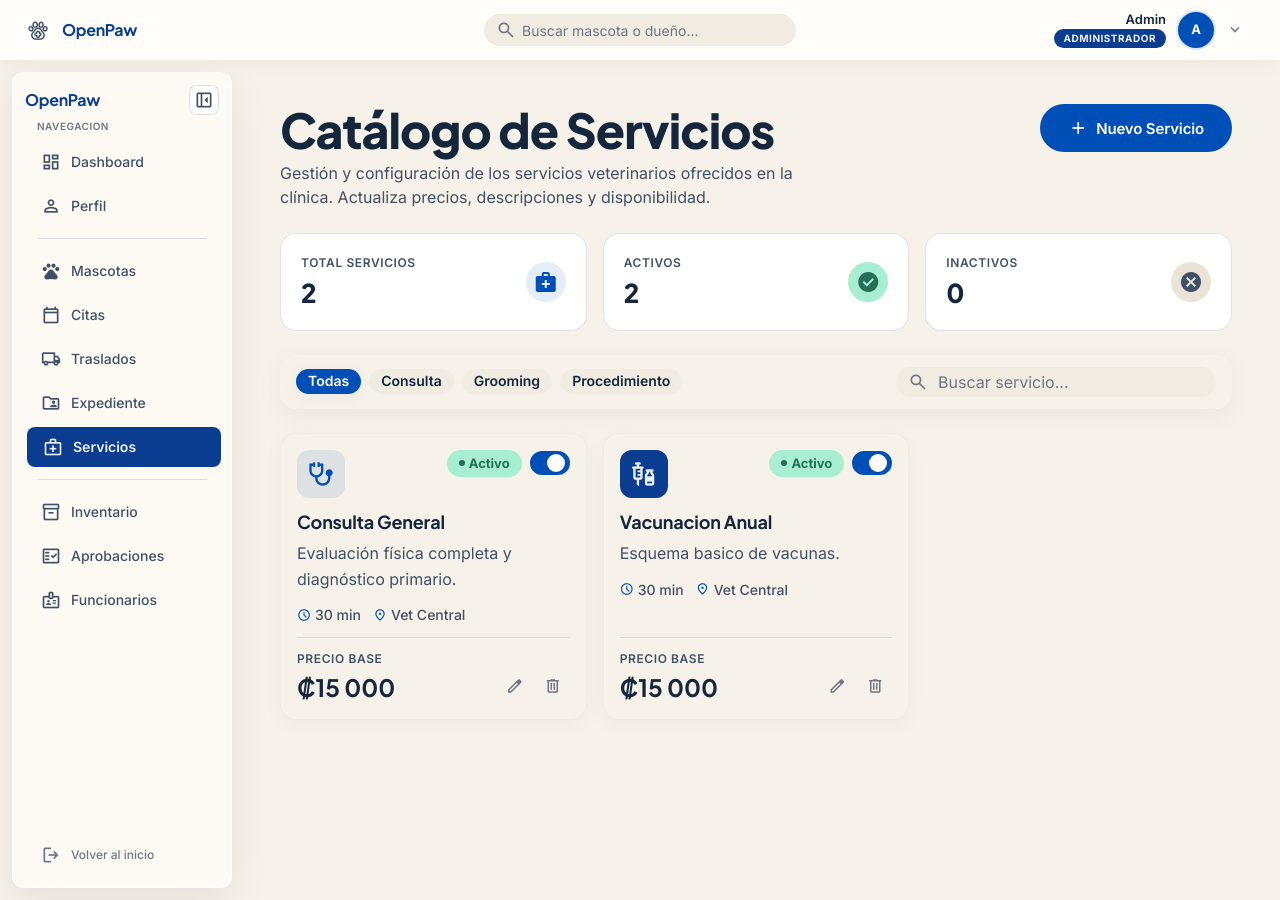
Scenario: ServiciosVeterinariaPage - rediseno catalogo con grid, toggle y busqueda (T31) › el buscador filtra por texto (nombre/descripcion) y se puede limpiar
Expected: the heading "Consulta General" is shown, [297,510,445,533]
Type "vacunacion" into the search field labelled "Buscar servicio".
click(1070, 382); type("vacunacion")  # box [936,371,1204,393]
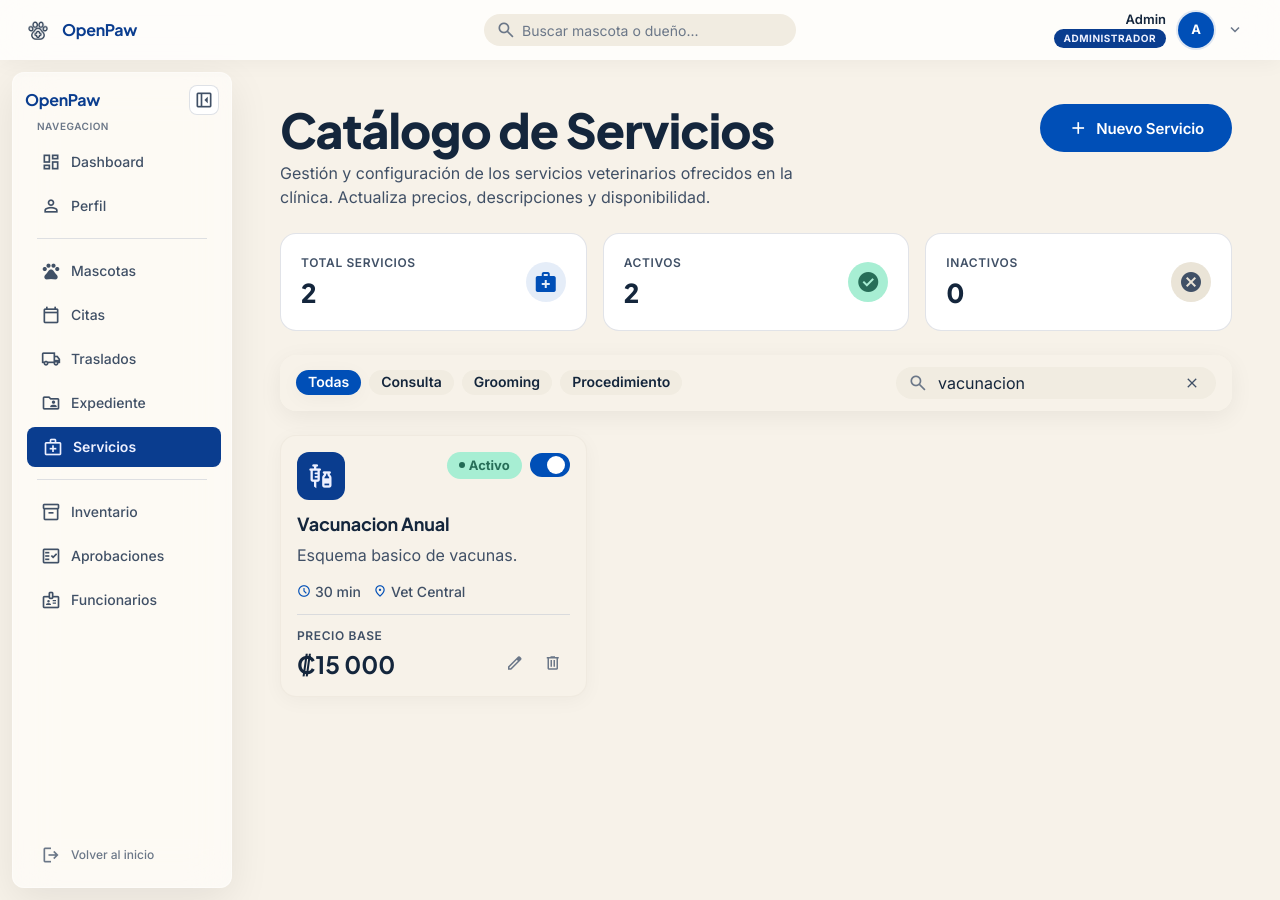
Expected: the heading "Vacunacion Anual" is shown, [297,512,449,535]
Expected: the heading "Consulta General" is gone
Click the button named "Limpiar busqueda".
click(1192, 383)  # box [1180,371,1204,395]
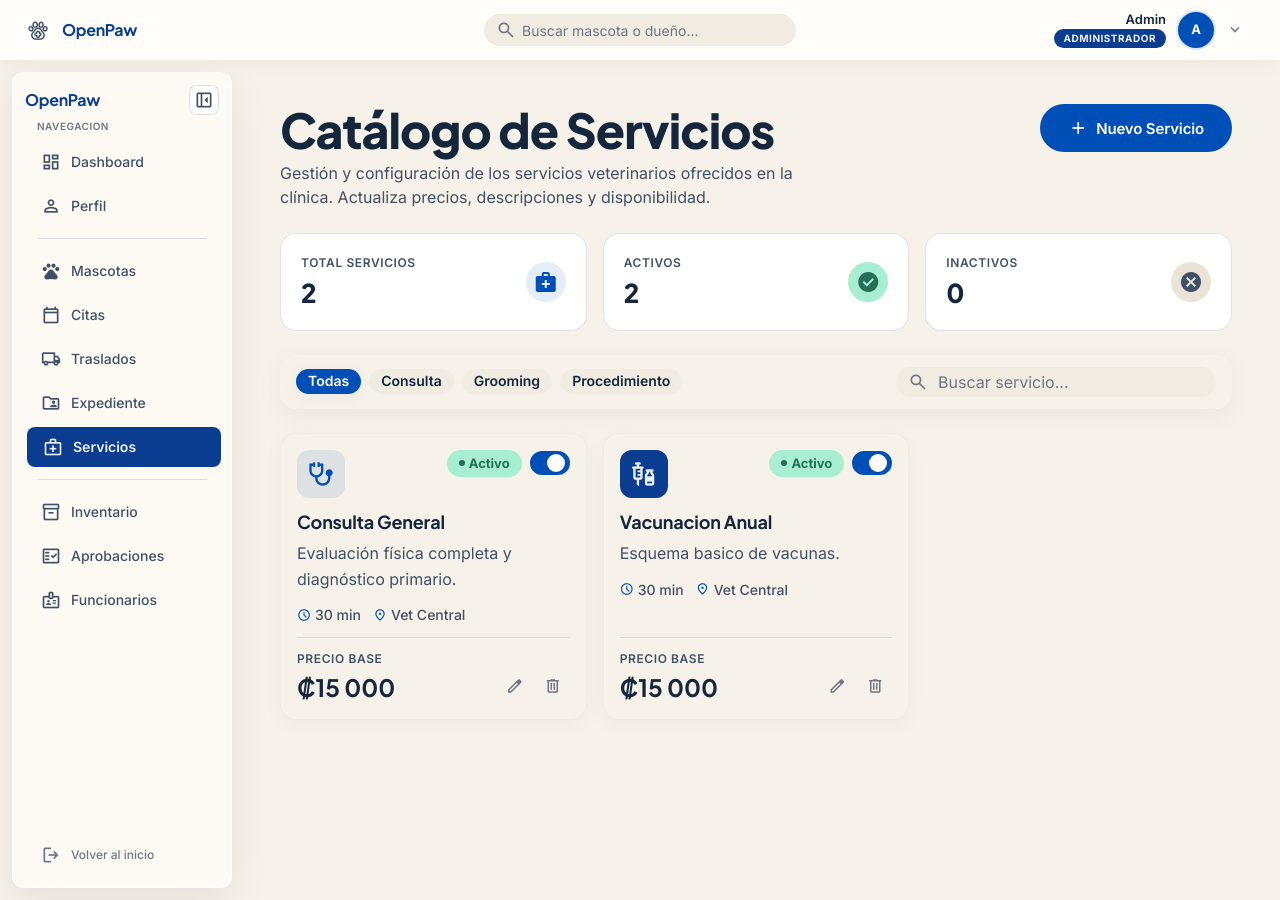
Expected: the heading "Consulta General" is shown, [297,510,445,533]
